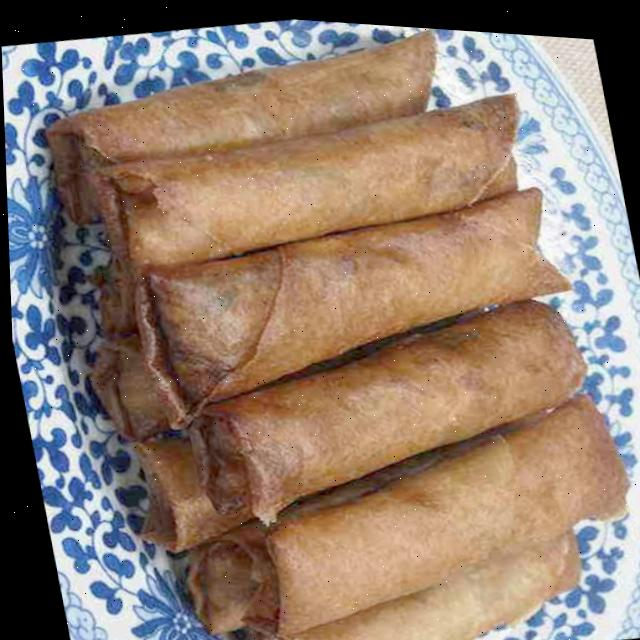鸡蛋料理: (16, 1, 640, 640)
